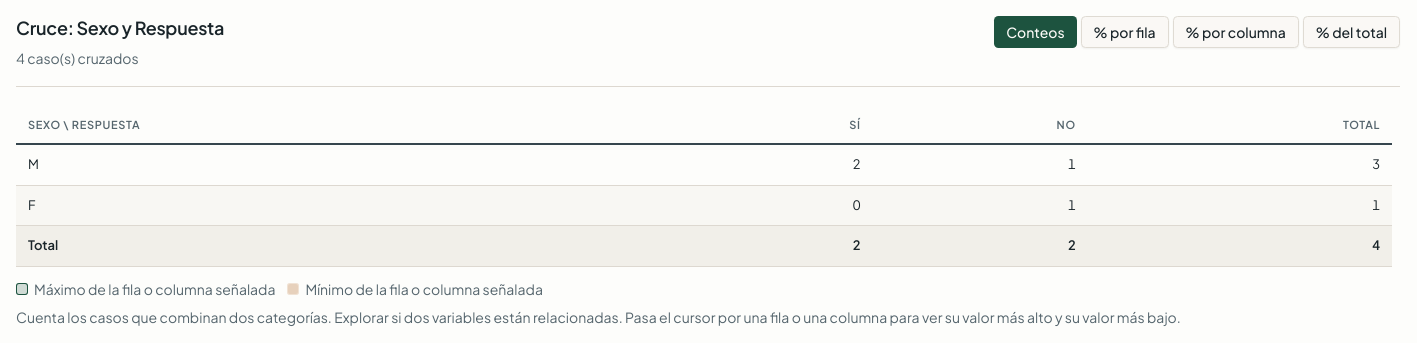
Test: ContingencyTable › conmuta entre conteos y porcentajes
This screenshot has width=1417, height=343.
Expected: the 1st cell "2" is shown, [696,145,873,185]
Click the button "% por fila" at point(1124, 32), box [1080,16,1168,48]
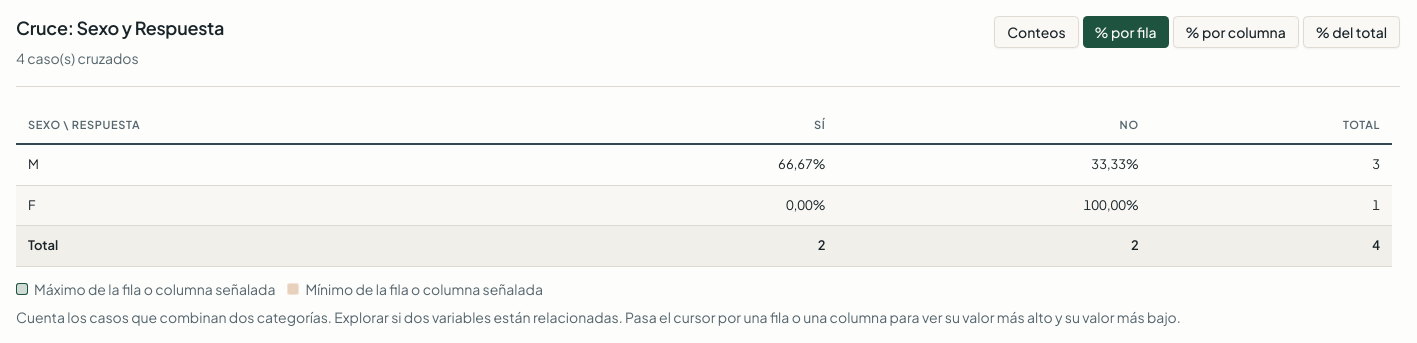
Expected: the cell "66,67%" is shown, [555,145,838,185]
Click the button "% del total" at point(1351, 32), box [1303,16,1400,48]
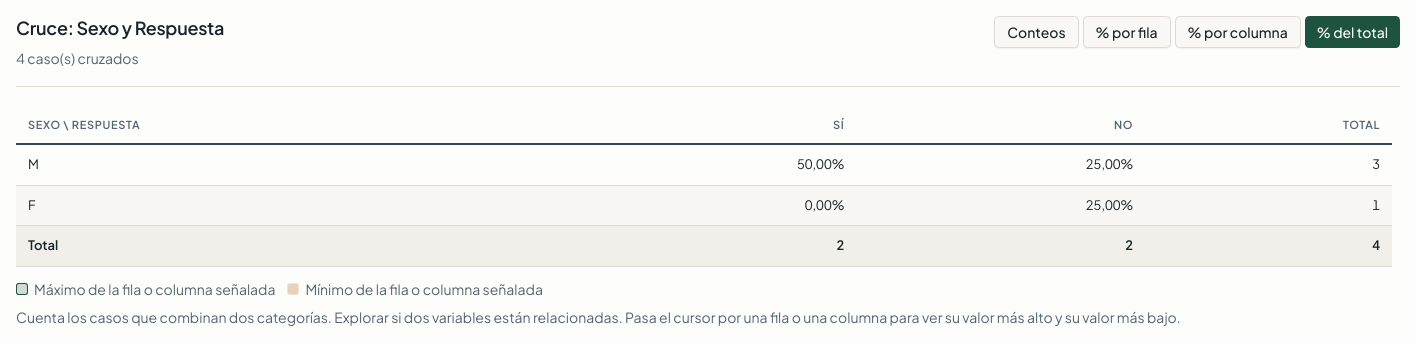
Expected: the cell "50,00%" is shown, [568,145,856,185]
